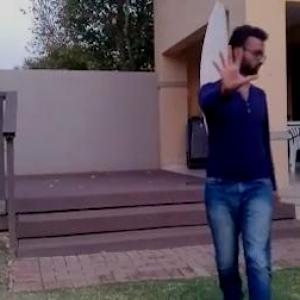follow_hand: (205, 39, 264, 98)
